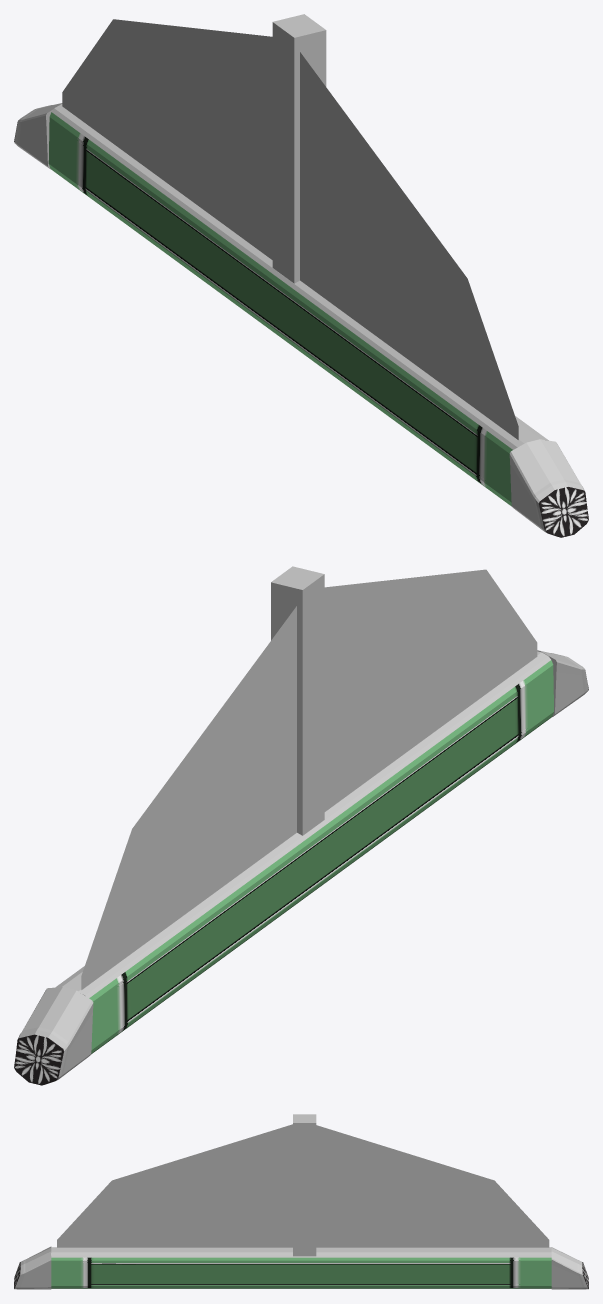
Rendered from SM_R_MiddleBeam_18.fbx.
3 renders of one model, top to bottom at view 1: azimuth 30°, elevation 25°; view 2: azimuth 150°, elevation 25°; view 3: azimuth 270°, elevation 25°, orthographic. The views are drawn at different scales.
Parts seen in each view (by area): view 1: SM_R_MiddleBeam_18_LOD0; view 2: SM_R_MiddleBeam_18_LOD0; view 3: SM_R_MiddleBeam_18_LOD0.
Boxes of the visible parts, bbox=[...] form: SM_R_MiddleBeam_18_LOD0: bbox=[14, 14, 588, 537]; SM_R_MiddleBeam_18_LOD0: bbox=[14, 566, 588, 1085]; SM_R_MiddleBeam_18_LOD0: bbox=[14, 1114, 588, 1289].
Bounding box in the file's own units: 24.3 × 465 × 151.
